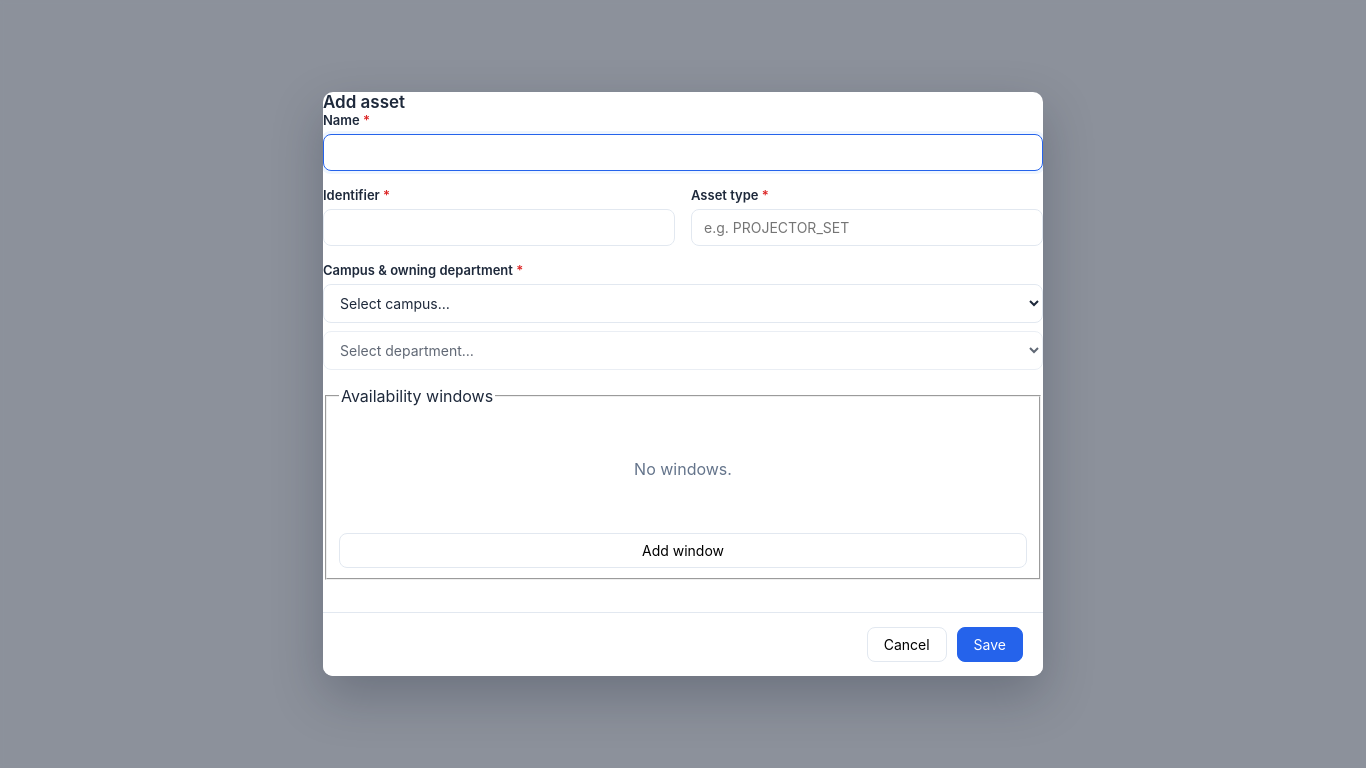
it: AssetFormModal › create mode › validates identifier format
Type "invalid identifier!" into the field labelled "Identifier *".
click(499, 227); type("invalid identifier!")  # box [323, 209, 675, 246]
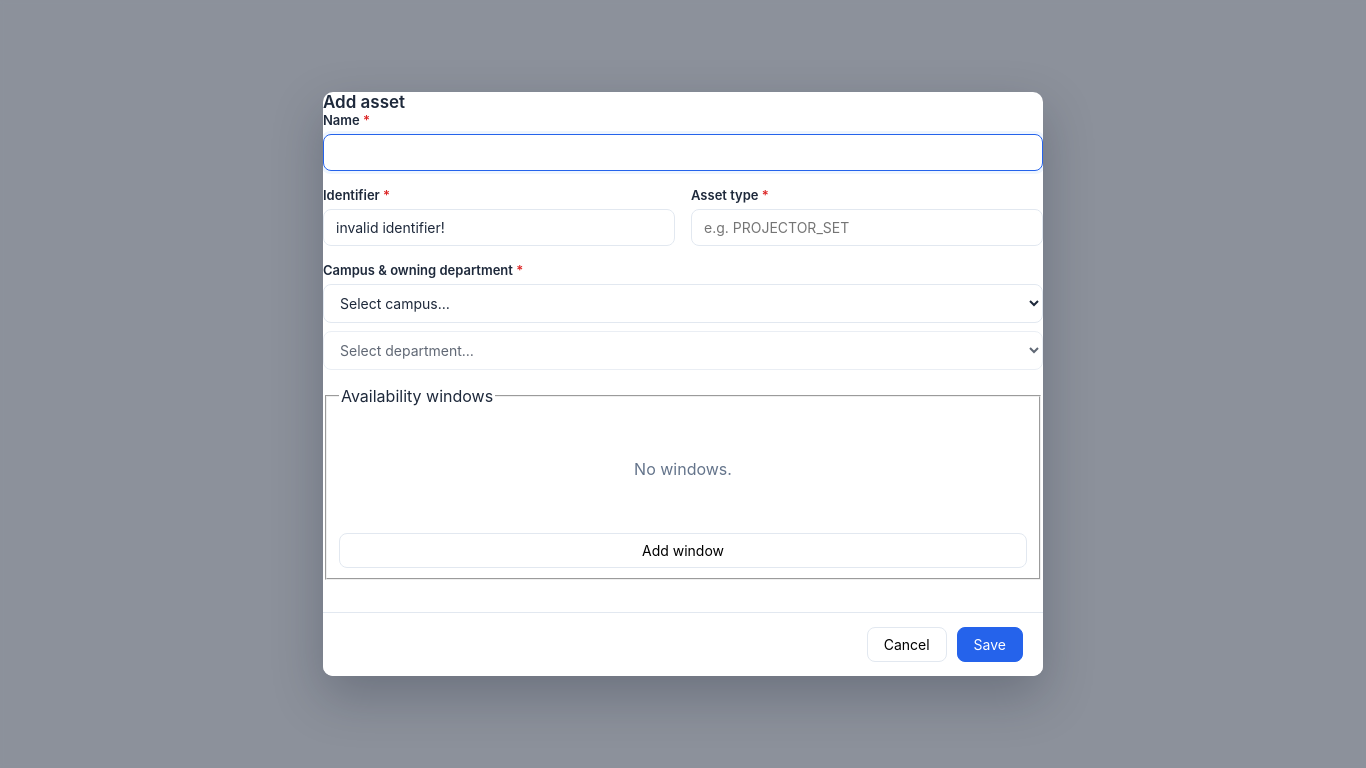
Click the button "Save".
click(990, 645)  # box [957, 627, 1023, 662]
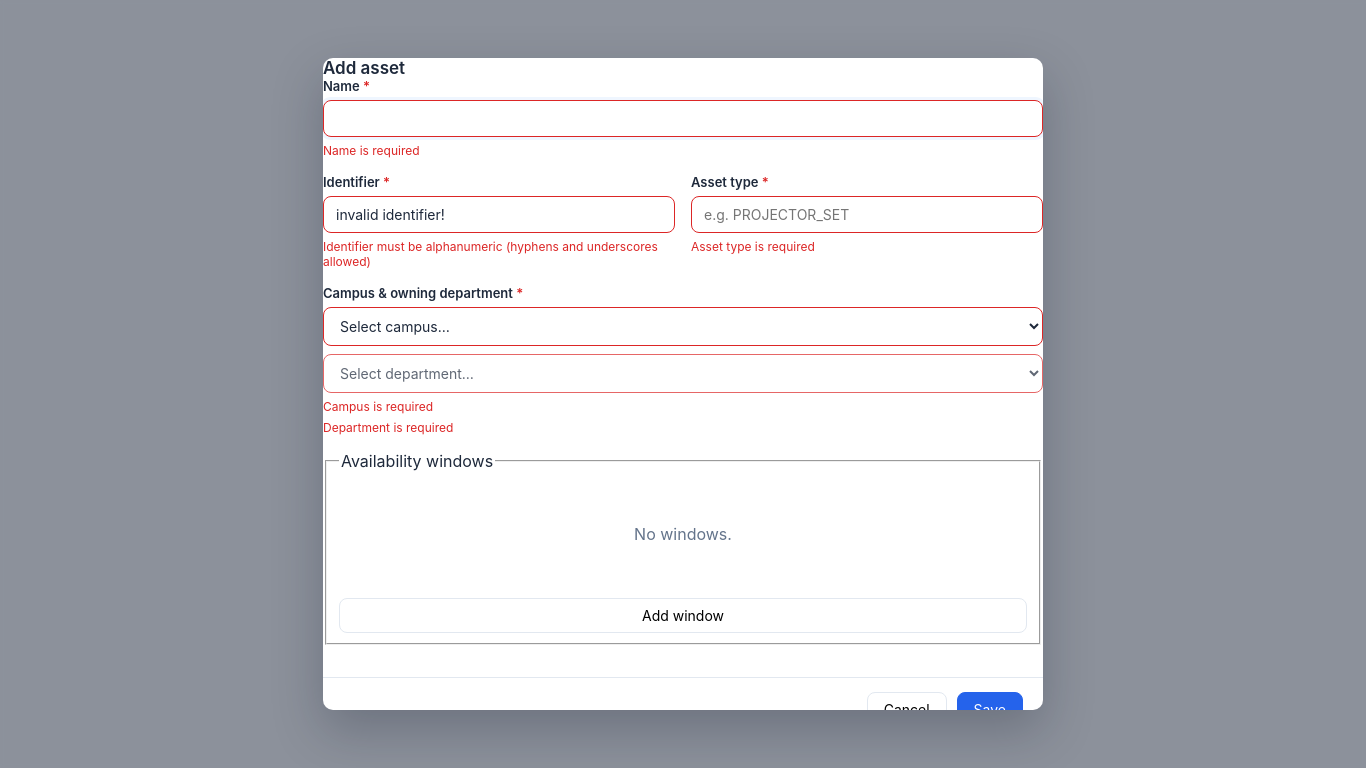
Result: the text "Identifier must be alphanumeric" is shown at [323, 239, 658, 269]
